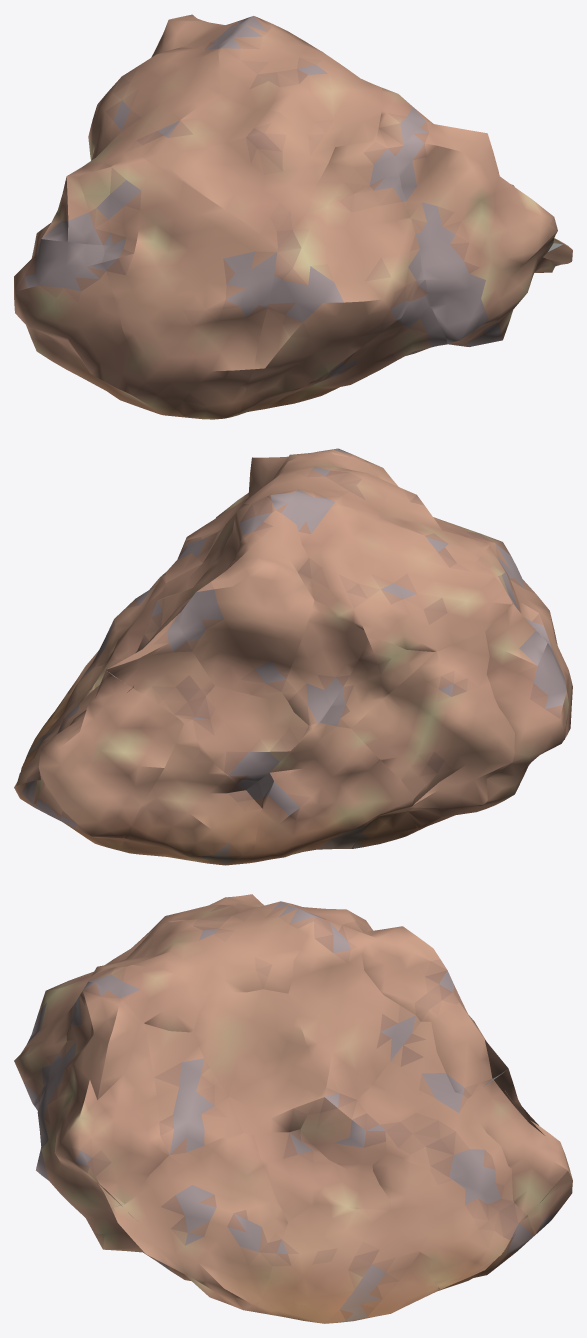
The model's file is iron_rock_v3.glb.
The picture shows the model from 3 angles, top to bottom: view 1: azimuth 30°, elevation 25°; view 2: azimuth 150°, elevation 25°; view 3: azimuth 270°, elevation 25°; orthographic projection. The views are drawn at different scales.
Visible parts, largest first — view 1: Chunk_12, Chunk_07, Chunk_10, Chunk_04, Chunk_20, Chunk_28, Chunk_25, Chunk_02, Chunk_15, Chunk_23, Chunk_27, Chunk_05; view 2: Chunk_25, Chunk_09, Chunk_27, Chunk_11, Chunk_01, Chunk_06, Chunk_04, Chunk_14, Chunk_28, Chunk_22, Chunk_19, Chunk_17 (+11 smaller); view 3: Chunk_10, Chunk_05, Chunk_00, Chunk_29, Chunk_26, Chunk_03, Chunk_28, Chunk_16, Chunk_18, Chunk_11, Chunk_27, Chunk_24 (+8 smaller).
Boxes of the visible parts, left/top/right/bottom form: Chunk_12: left=78, top=156, right=277, bottom=419; Chunk_07: left=237, top=172, right=424, bottom=415; Chunk_10: left=395, top=120, right=565, bottom=355; Chunk_04: left=14, top=175, right=202, bottom=419; Chunk_20: left=140, top=93, right=334, bottom=246; Chunk_28: left=217, top=16, right=382, bottom=146; Chunk_25: left=68, top=39, right=220, bottom=177; Chunk_02: left=252, top=279, right=447, bottom=411; Chunk_15: left=305, top=141, right=396, bottom=214; Chunk_23: left=375, top=88, right=428, bottom=155; Chunk_27: left=151, top=14, right=236, bottom=57; Chunk_05: left=422, top=243, right=572, bottom=350; Chunk_25: left=297, top=505, right=512, bottom=651; Chunk_09: left=351, top=632, right=514, bottom=828; Chunk_27: left=172, top=510, right=314, bottom=694; Chunk_11: left=34, top=670, right=184, bottom=850; Chunk_01: left=254, top=723, right=416, bottom=862; Chunk_06: left=120, top=720, right=263, bottom=865; Chunk_04: left=405, top=602, right=571, bottom=836; Chunk_14: left=193, top=686, right=308, bottom=797; Chunk_28: left=244, top=452, right=390, bottom=524; Chunk_22: left=281, top=600, right=369, bottom=725; Chunk_19: left=106, top=614, right=214, bottom=722; Chunk_17: left=320, top=636, right=435, bottom=728; Chunk_10: left=36, top=981, right=169, bottom=1252; Chunk_05: left=112, top=1133, right=287, bottom=1312; Chunk_00: left=256, top=1203, right=439, bottom=1323; Chunk_29: left=288, top=918, right=420, bottom=1099; Chunk_26: left=193, top=989, right=325, bottom=1134; Chunk_03: left=372, top=1153, right=536, bottom=1290; Chunk_28: left=104, top=901, right=325, bottom=993; Chunk_16: left=385, top=1092, right=513, bottom=1202; Chunk_18: left=144, top=1023, right=242, bottom=1154; Chunk_11: left=468, top=1069, right=572, bottom=1233; Chunk_27: left=325, top=919, right=461, bottom=1021; Chunk_24: left=357, top=1021, right=454, bottom=1130.
Bounding box in the file's own units: 3.95 × 2.38 × 3.87.
